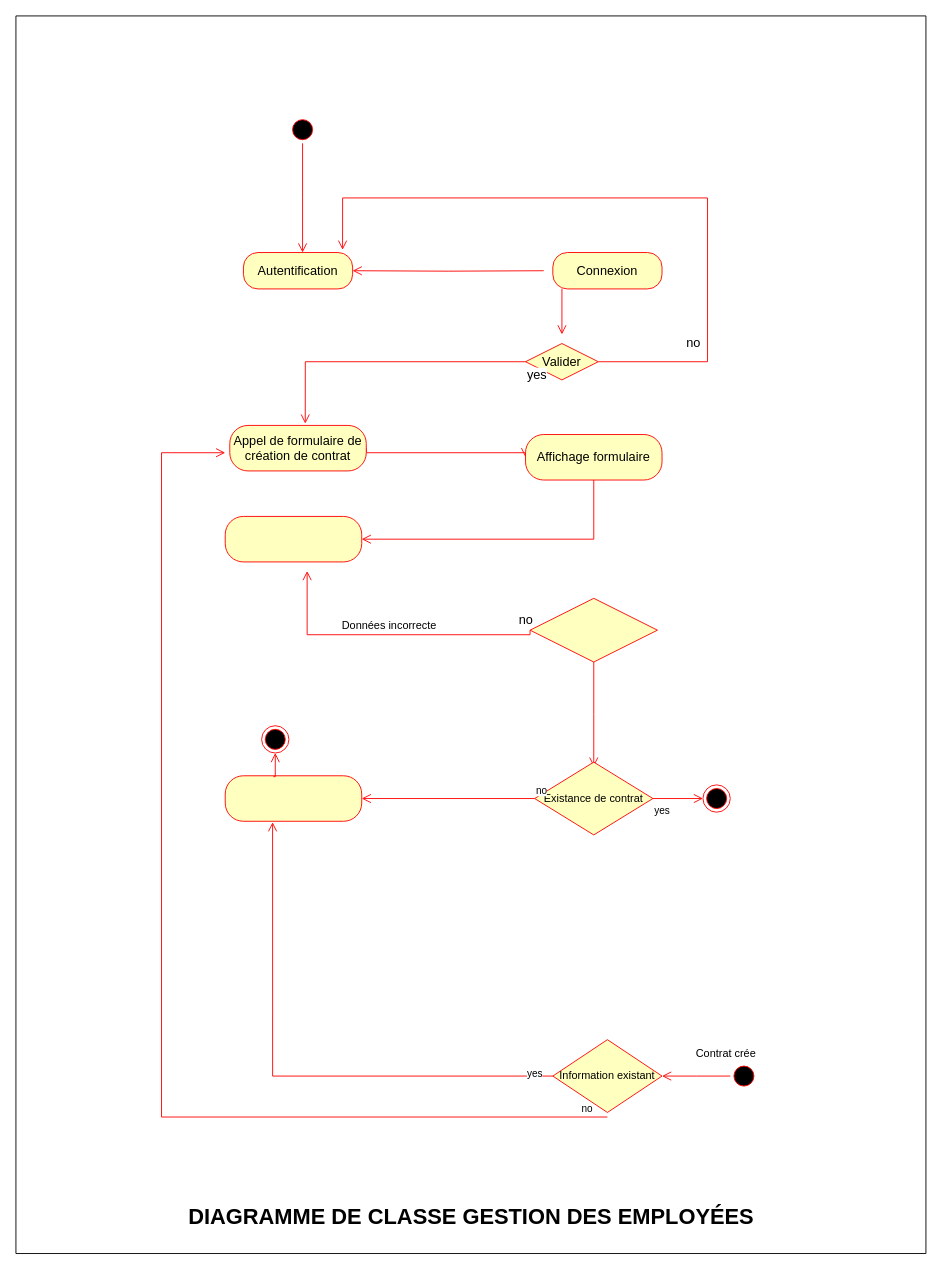
Some shapes in this 943 by 1270 pixel diagram are drawn without their labels. Here are the shapes that lost their labels. From the top down, the centre of each, then its label:
the point at 293,539: Saisir information
the point at 593,629: Vérification des informations
the point at 293,798: Enregistrement des informations
